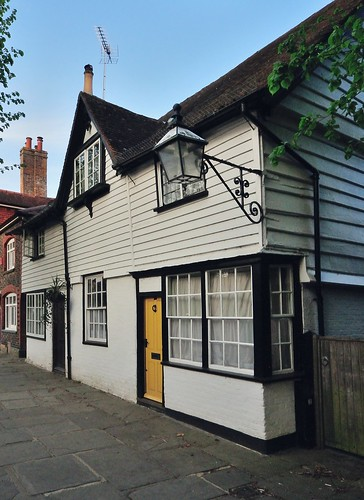building: (20, 14, 364, 432)
sky: (7, 1, 289, 153)
